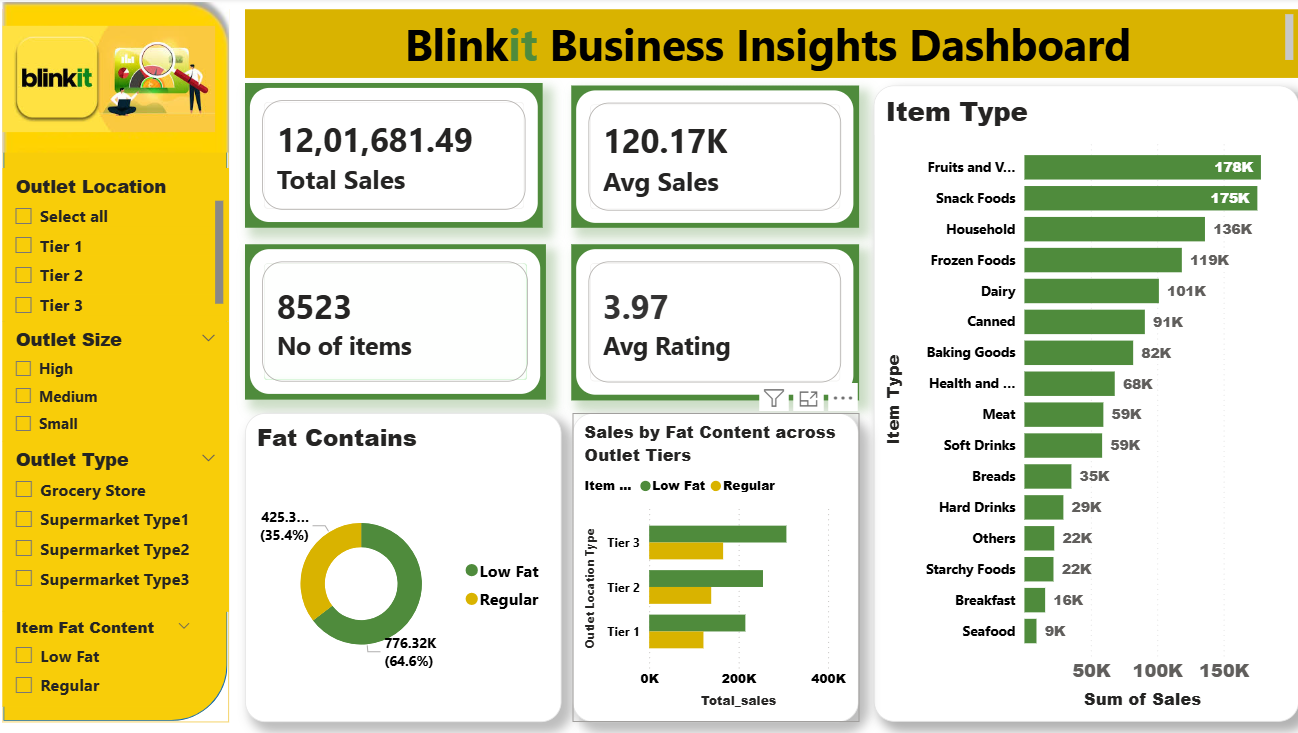

The page's visual inventory and layout, read from the dashboard file:
{"tool":"powerbi","page":{"name":"Sales Dashboard","canvas":[1280,720],"ordinal":0},"visuals":[{"type":"shape","box":[12.5,11.2,221.2,697.5],"z":0},{"type":"image","box":[12.5,0,221.2,155],"z":1000},{"type":"slicer","fields":{"Values":["Blinkit Grocery Data.Outlet Location Type"]},"box":[12.5,166.2,221.2,150],"z":2000},{"type":"slicer","fields":{"Values":["Blinkit Grocery Data.Outlet Size"]},"box":[12.5,316.2,221.2,117.5],"z":3000},{"type":"slicer","fields":{"Values":["Blinkit Grocery Data.Outlet Type"]},"box":[12.5,433.8,221.2,166.2],"z":4000},{"type":"slicer","fields":{"Values":["Blinkit Grocery Data.Item Fat Content"]},"box":[12.5,600,196.2,92.5],"z":5000},{"type":"cardVisual","fields":{"Data":["Blinkit Grocery Data.Total_sales"]},"box":[249.5,83.2,291,141.8],"z":6000},{"type":"cardVisual","fields":{"Data":["Blinkit Grocery Data.Avg_sales_per_outlet"]},"box":[568.6,85.6,281.3,139.4],"z":7000},{"type":"cardVisual","fields":{"Data":["Blinkit Grocery Data.Avg_itemRating"]},"box":[568.6,240.9,281.3,152.9],"z":8000},{"type":"cardVisual","title":"⭐ Avg Rating 👍","fields":{"Data":["CountNonNull(Blinkit Grocery Data.Item Visibility)"]},"box":[249.5,240.9,294.7,151.6],"z":9000},{"type":"barChart","title":"Item Type","fields":{"Category":["Blinkit Grocery Data.Item Type"],"Y":["Sum(Blinkit Grocery Data.Sales)"]},"box":[864.5,85.6,415.8,622.4],"z":10000},{"type":"donutChart","title":"Fat Contains","fields":{"Y":["Sum(Blinkit Grocery Data.Sales)"],"Category":["Blinkit Grocery Data.Item Fat Content"]},"box":[249.5,406,309.4,302],"z":11000},{"type":"clusteredBarChart","title":"Sales by Fat Content across Outlet Tiers","fields":{"Category":["Blinkit Grocery Data.Outlet Location Type"],"Y":["Blinkit Grocery Data.Total_sales"],"Series":["Blinkit Grocery Data.Item Fat Content"]},"box":[569.8,406,280,302],"z":12000},{"type":"textbox","box":[249.5,11,1030.8,67.3],"z":13000},{"type":"image","box":[12.2,0,207.9,159],"z":14000}]}

Visuals, with their boxes in screenshot pixels (x1, y1, x2, y2), scaled from the page's 1280x720 canvas onto the 1298x733 screenshot:
shape: <box>13,11,237,721</box>
image: <box>13,0,237,158</box>
slicer - Blinkit Grocery Data.Outlet Location Type: <box>13,169,237,322</box>
slicer - Blinkit Grocery Data.Outlet Size: <box>13,322,237,442</box>
slicer - Blinkit Grocery Data.Outlet Type: <box>13,442,237,611</box>
slicer - Blinkit Grocery Data.Item Fat Content: <box>13,611,212,705</box>
cardVisual - Blinkit Grocery Data.Total_sales: <box>253,85,548,229</box>
cardVisual - Blinkit Grocery Data.Avg_sales_per_outlet: <box>577,87,862,229</box>
cardVisual - Blinkit Grocery Data.Avg_itemRating: <box>577,245,862,401</box>
"⭐ Avg Rating 👍" cardVisual: <box>253,245,552,400</box>
"Item Type" barChart: <box>877,87,1297,721</box>
"Fat Contains" donutChart: <box>253,413,567,721</box>
"Sales by Fat Content across Outlet Tiers" clusteredBarChart: <box>578,413,862,721</box>
textbox: <box>253,11,1297,80</box>
image: <box>12,0,223,162</box>
